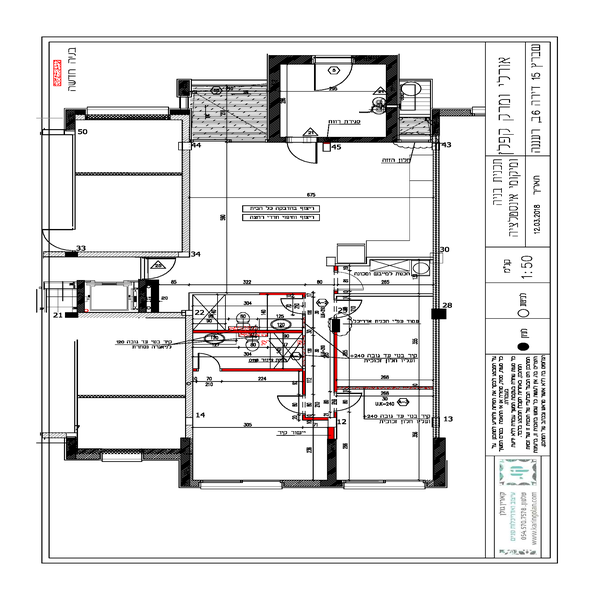door: (315, 54, 360, 94), (140, 252, 187, 285), (42, 227, 85, 253), (287, 136, 321, 168), (270, 390, 310, 414), (335, 388, 365, 409), (338, 298, 367, 319), (194, 351, 221, 370)
wall: (388, 55, 401, 137), (269, 54, 281, 142), (179, 441, 194, 489), (434, 441, 448, 485), (320, 138, 399, 144), (328, 441, 337, 486), (278, 53, 313, 64), (355, 55, 389, 64)
window: (85, 104, 169, 117), (199, 483, 283, 493), (345, 478, 428, 488), (99, 448, 141, 465)
